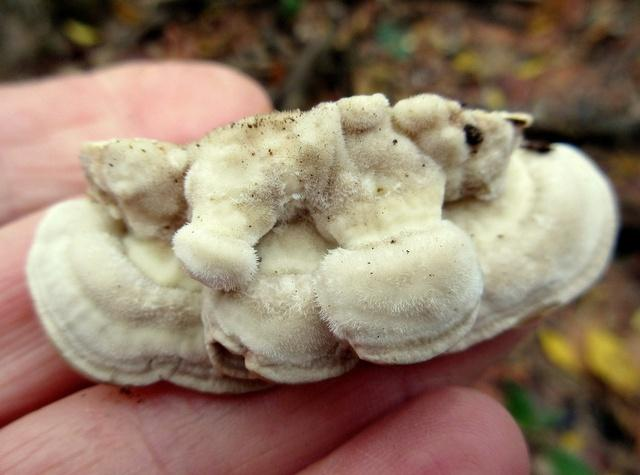poisonous_mushroom: (26, 89, 618, 391)
